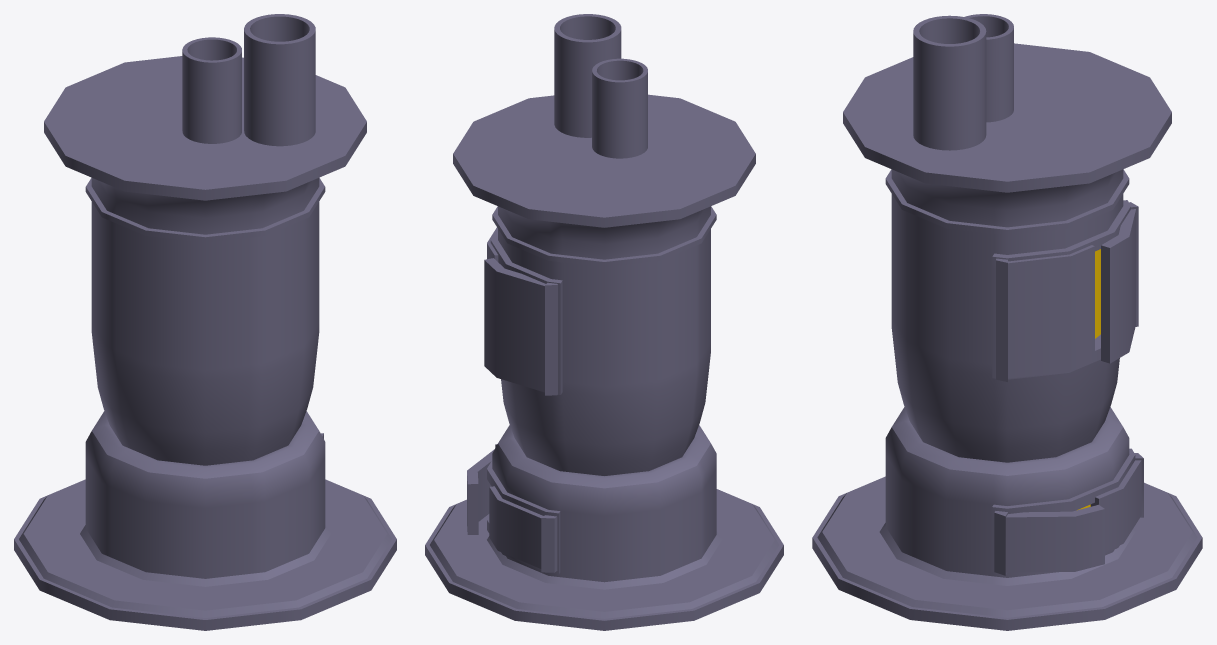
The model's file is Furnace bit oppened.fbx.
3 views of the same model, side by side, from view 1: azimuth 30°, elevation 25°; view 2: azimuth 150°, elevation 25°; view 3: azimuth 270°, elevation 25° (orthographic). The views are drawn at different scales.
Parts seen in each view (by area): view 1: furnace, Chimneys; view 2: furnace, Chimneys, top right door, bottom right door, bottom left door; view 3: furnace, Chimneys, Top left door, bottom left door, top right door, bottom right door.
Part boxes in pixels (left/top/right/bottom): furnace: left=14, top=56, right=396, bottom=630; Chimneys: left=182, top=14, right=315, bottom=146; furnace: left=425, top=94, right=783, bottom=630; Chimneys: left=554, top=14, right=647, bottom=158; top right door: left=484, top=258, right=557, bottom=395; bottom right door: left=489, top=486, right=557, bottom=572; bottom left door: left=467, top=444, right=497, bottom=534; furnace: left=812, top=43, right=1202, bottom=630; Chimneys: left=913, top=14, right=1013, bottom=150; Top left door: left=996, top=245, right=1094, bottom=381; bottom left door: left=994, top=504, right=1104, bottom=575; top right door: left=1101, top=202, right=1138, bottom=363; bottom right door: left=1090, top=453, right=1143, bottom=551.
Bounding box in the file's own units: 640 × 640 × 978.
